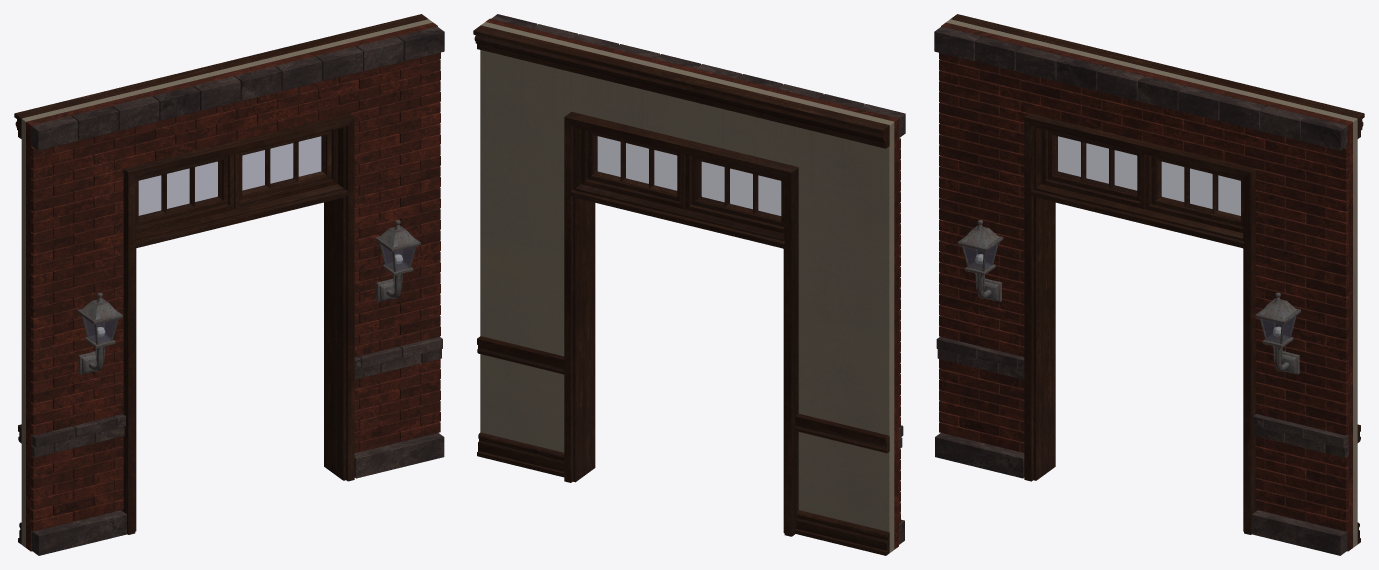
File: SK1 DOOR2.fbx
3 views of the same model, side by side, from view 1: azimuth 30°, elevation 25°; view 2: azimuth 150°, elevation 25°; view 3: azimuth 330°, elevation 25° (orthographic).
Visible parts, largest first — view 1: SK1 DOOR2.001; view 2: SK1 DOOR2.001; view 3: SK1 DOOR2.001.
Part boxes in pixels (x1,y1,x2,y2): SK1 DOOR2.001: [14, 14, 444, 555]; SK1 DOOR2.001: [473, 14, 905, 555]; SK1 DOOR2.001: [934, 14, 1364, 555].
Bounding box in the file's own units: 400 × 400 × 67.75.
